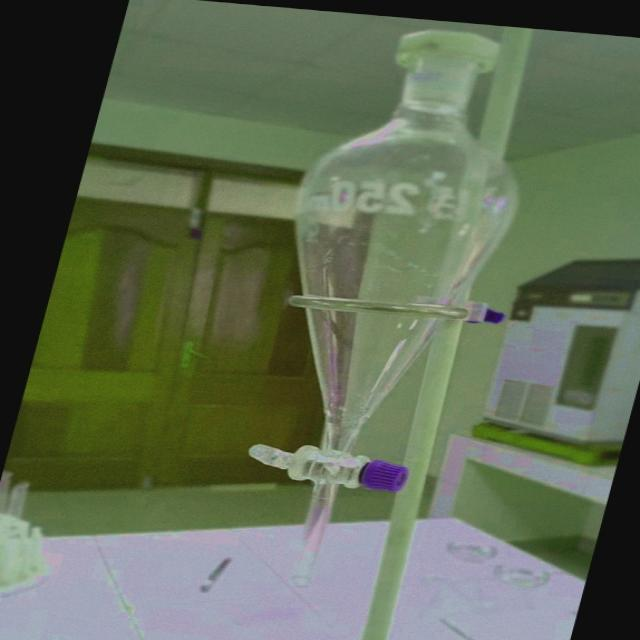Separating Funnel: (194, 13, 564, 601)
